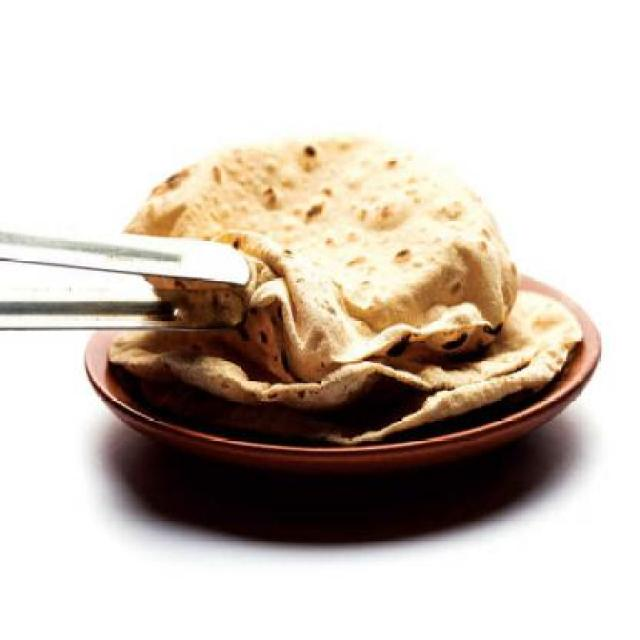chapati: (124, 134, 518, 381)
